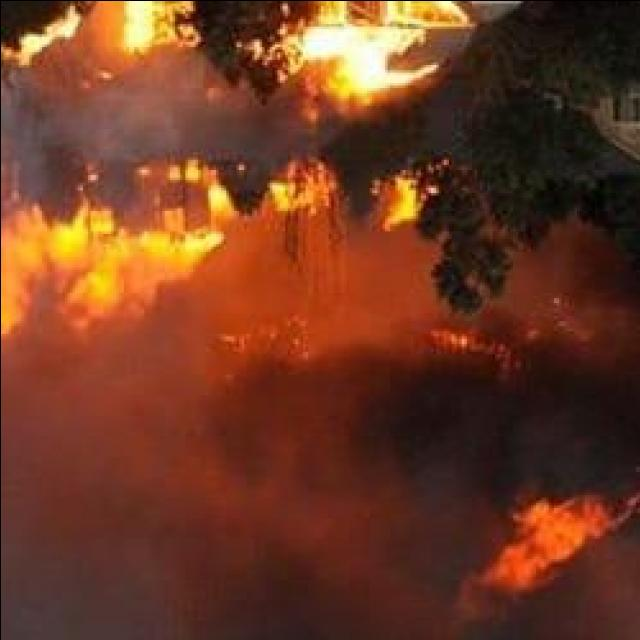fire: (5, 230, 174, 304), (297, 28, 408, 100), (116, 1, 156, 53)
smoke: (172, 322, 388, 634), (365, 344, 640, 516), (2, 442, 206, 632), (3, 63, 216, 199), (518, 236, 616, 395), (161, 101, 342, 166)
